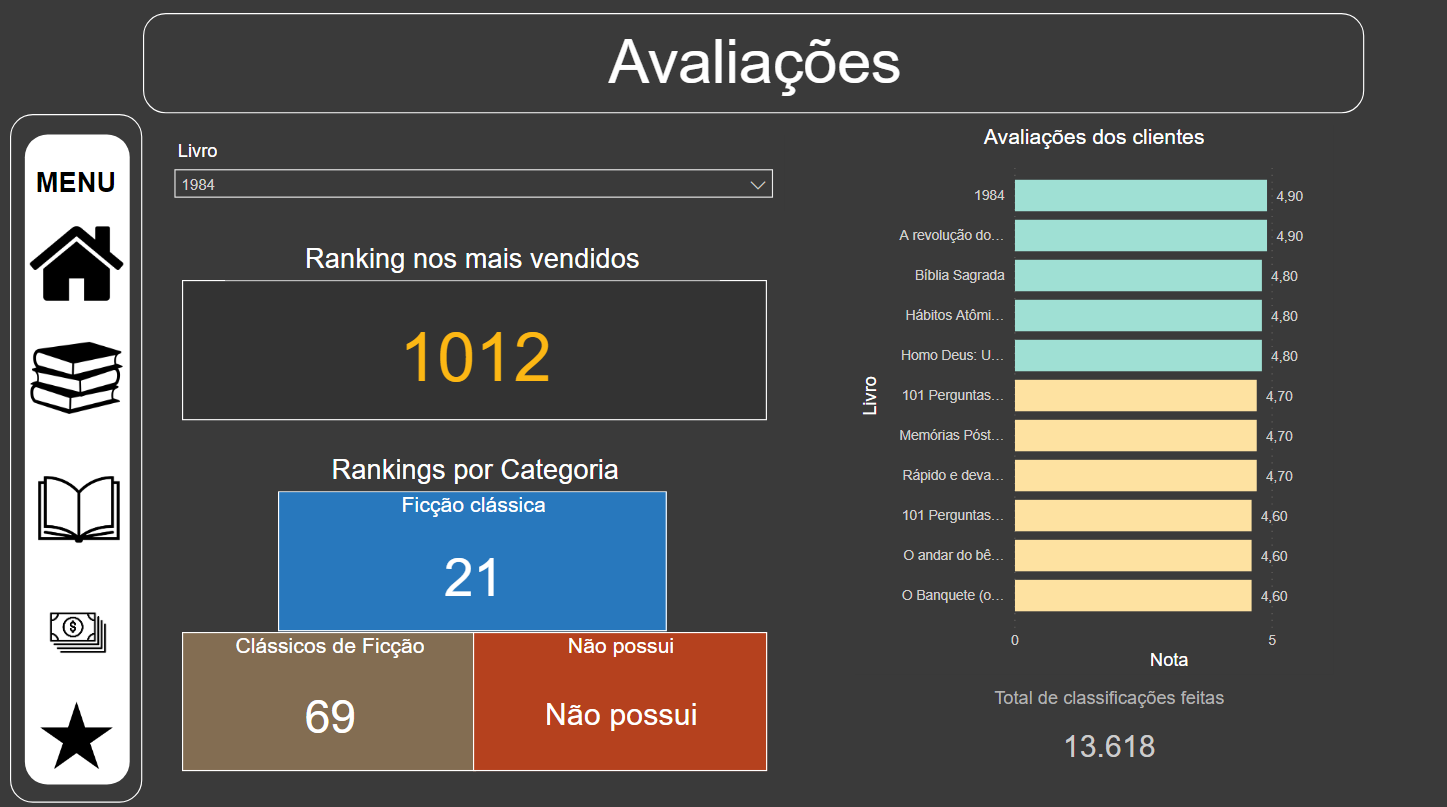

The dashboard page shown, as its layout file describes it:
{"tool":"powerbi","page":{"name":"Avaliações","canvas":[1280,720],"ordinal":4},"visuals":[{"type":"basicShape","title":"Menu","box":[11.4,108.3,116.3,604.1],"z":0},{"type":"textbox","box":[21.7,149.3,94.6,66.1],"z":1000},{"type":"image","box":[22.8,410.3,96.9,87.8],"z":2000},{"type":"image","box":[5.7,610.9,127.7,83.2],"z":3000},{"type":"image","box":[19.4,294.1,100.3,91.2],"z":4000},{"type":"image","box":[16,192.6,107.1,92.3],"z":5000},{"type":"image","box":[6.8,508.4,126.5,108.3],"z":6000},{"type":"textbox","box":[127.8,19.4,1071.2,87.8],"z":7000},{"type":"slicer","fields":{"Values":["Books Info.Livro"]},"box":[145.9,126.4,544.7,66.1],"z":8000},{"type":"clusteredBarChart","title":"Avaliações dos clientes","fields":{"Y":["Sum(Books Info.Avaliações dos clientes)"],"Category":["Books Info.Livro"]},"box":[752.5,117.1,419.5,481.7],"z":9000},{"type":"card","fields":{"Values":["Max(Books Info.Ranking Categoria Principal)"]},"box":[246.4,438.9,341.1,123.2],"z":10000},{"type":"card","fields":{"Values":["Min(Books Info.Ranking Categoria 2)"]},"box":[161.9,562.1,257.6,122.2],"z":11000},{"type":"card","fields":{"Values":["Min(Books Info.Ranking Categoria 3)"]},"box":[417.5,562.1,257.6,122.2],"z":12000},{"type":"textbox","box":[202.3,400.7,433.8,37.9],"z":13000},{"type":"card","title":"Total de classificações feitas","fields":{"Values":["Min(Books Info.Classificações)"]},"box":[752.5,611,446,84.5],"z":14000},{"type":"card","title":"Ranking dos mais vendidos","fields":{"Values":["Min(Books Info.Ranking dos mais vendidos)"]},"box":[161.9,253.6,513.2,123.2],"z":14001},{"type":"textbox","box":[200.4,215.9,433.8,37.9],"z":14002}]}

Visuals, with their boxes in screenshot pixels (x1, y1, x2, y2), scaled from the page's 1280x720 canvas onto the 1447x807 screenshot:
"Menu" basicShape: [left=13, top=121, right=144, bottom=798]
textbox: [left=25, top=167, right=131, bottom=241]
image: [left=26, top=460, right=135, bottom=558]
image: [left=6, top=685, right=151, bottom=778]
image: [left=22, top=330, right=135, bottom=432]
image: [left=18, top=216, right=139, bottom=319]
image: [left=8, top=570, right=151, bottom=691]
textbox: [left=144, top=22, right=1355, bottom=120]
slicer - Books Info.Livro: [left=165, top=142, right=781, bottom=216]
"Avaliações dos clientes" clusteredBarChart: [left=851, top=131, right=1325, bottom=671]
card - Max(Books Info.Ranking Categoria Principal): [left=279, top=492, right=664, bottom=630]
card - Min(Books Info.Ranking Categoria 2): [left=183, top=630, right=474, bottom=767]
card - Min(Books Info.Ranking Categoria 3): [left=472, top=630, right=763, bottom=767]
textbox: [left=229, top=449, right=719, bottom=492]
"Total de classificações feitas" card: [left=851, top=685, right=1355, bottom=780]
"Ranking dos mais vendidos" card: [left=183, top=284, right=763, bottom=422]
textbox: [left=227, top=242, right=717, bottom=284]
